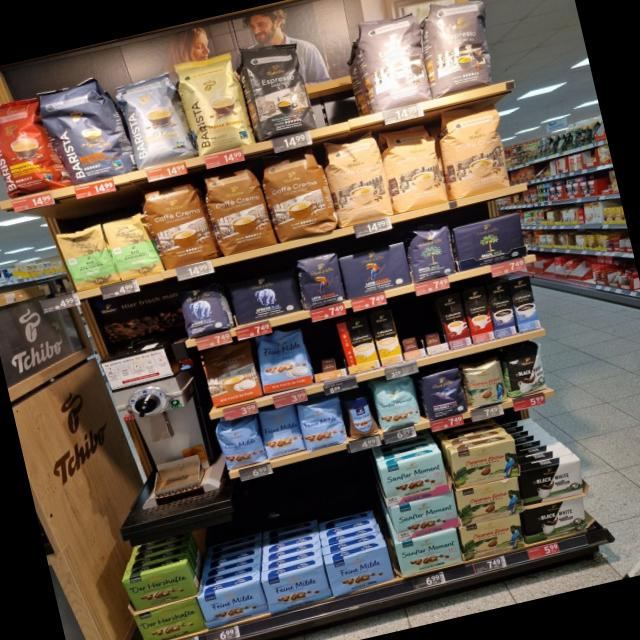AB Bohne: (174, 276, 234, 339)
AB Gemahlen: (227, 268, 301, 324)
Athiopien Gemahlen: (55, 222, 119, 294), (102, 210, 164, 282)
BM Bohne: (405, 220, 458, 281)
BM Gemahlen: (451, 212, 529, 270)
BW Bohne: (501, 344, 552, 398)
BW Gemahlen: (520, 493, 589, 543), (518, 455, 585, 506)
Barista CB: (171, 47, 255, 156)
Barista CC: (113, 68, 197, 170)
Barista Espresso: (36, 71, 134, 188)
Barista Kolumbien: (0, 89, 67, 200)
C Fino Bohne: (418, 366, 469, 422)
CC Mild: (434, 100, 518, 200), (320, 131, 396, 227), (378, 118, 450, 214)
CC Vollmundig: (200, 340, 262, 409)
CC Vollmundig 36 Pads: (255, 144, 338, 244), (198, 158, 276, 258), (140, 175, 218, 272)
Colombia BB Bohne: (460, 358, 510, 410)
Colombia BB Gemahlen: (454, 475, 524, 527), (450, 437, 519, 489), (457, 511, 527, 562)
Empty Shelf: (298, 26, 373, 126), (303, 322, 346, 374), (414, 296, 446, 347), (393, 303, 423, 353)
Espresso Kraftig: (235, 31, 318, 140)
Espresso M Art: (350, 5, 433, 114), (421, 0, 501, 94)
FM 36 Pads: (251, 326, 314, 396)
FM Bohne: (211, 414, 266, 472), (294, 395, 348, 452), (258, 404, 305, 459)
FM Gemahlen: (324, 542, 397, 599), (196, 577, 270, 630), (260, 562, 331, 615)
FM Instant: (342, 392, 379, 440)
Herzhatfe Mundig: (118, 560, 199, 612), (133, 595, 207, 640)
LG Bohne: (292, 248, 348, 308)
LG Gemahlen: (336, 240, 413, 298)
SM Bohne: (370, 374, 422, 431)
SM Gemahlen: (378, 449, 452, 506), (393, 525, 465, 577), (388, 490, 460, 542)
Simo CCMild: (335, 315, 379, 375)
Simo CCMild bigpack: (369, 308, 403, 366)
Simo Es Brazil: (461, 286, 496, 344)
Simo Es Caramel: (436, 292, 472, 352)
Simo Es Kraft: (484, 280, 518, 337)
Simo Es Vanilla: (508, 274, 542, 332)
